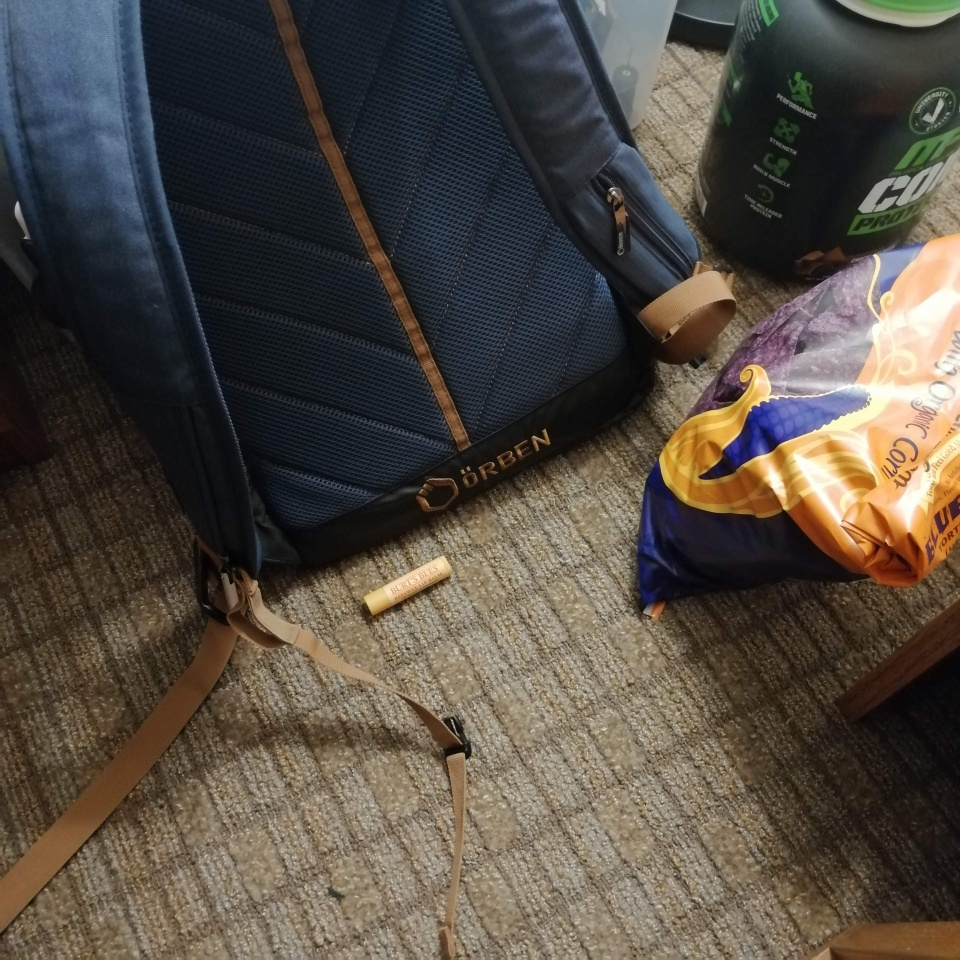chapstick: (362, 553, 456, 619)
